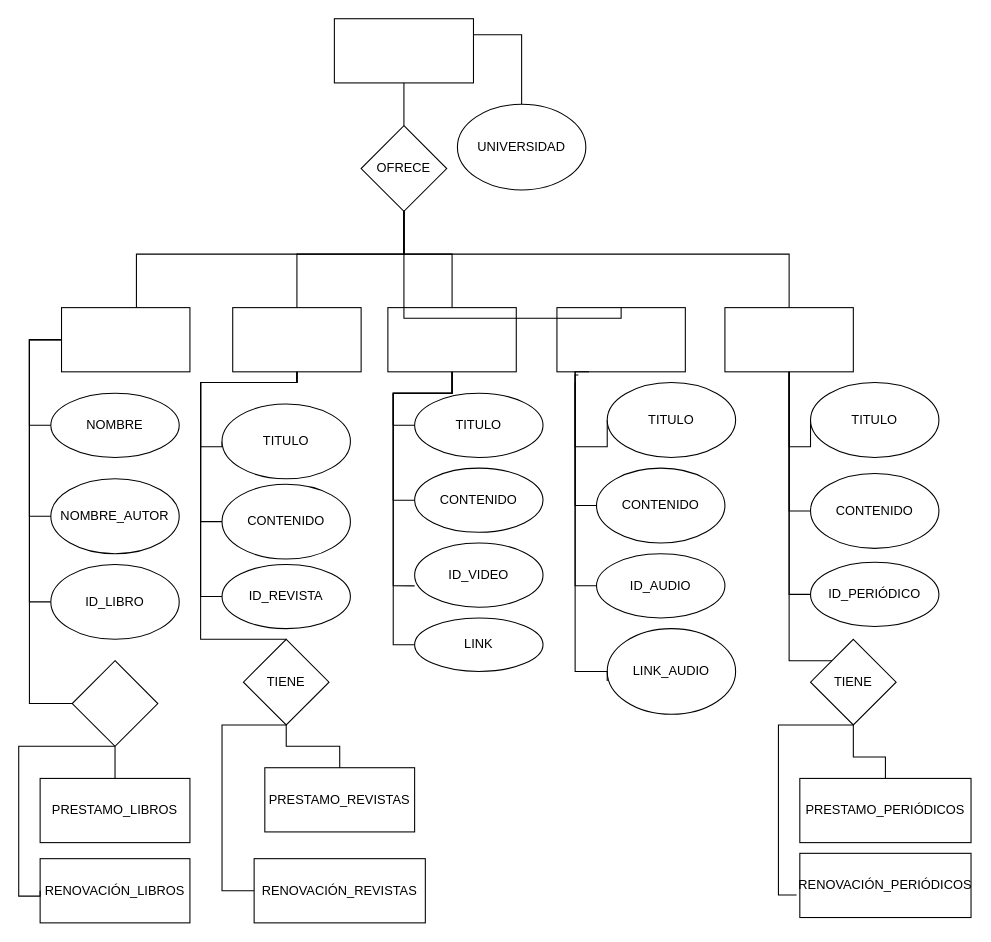
The diagram is 991 pixels wide and 942 high, and some of its shapes have lost their labels. The shapes that lost their labels are listed below. From the top down, each one's centre as x and y in pixels, then its label:
At point 403,50: "BIBLIOTECA".
At point 125,339: "LIBROS".
At point 296,339: "REVISTAS".
At point 451,339: "VIDEOS".
At point 620,339: "AUDIOS".
At point 788,339: "PERIÓDICOS".
At point 114,703: "PUEDEN SER".
